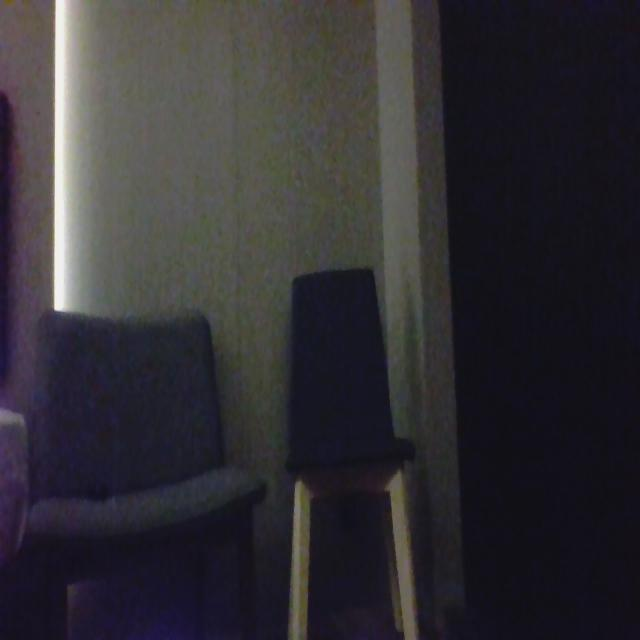empty: (38, 316, 248, 524), (289, 255, 384, 478)
